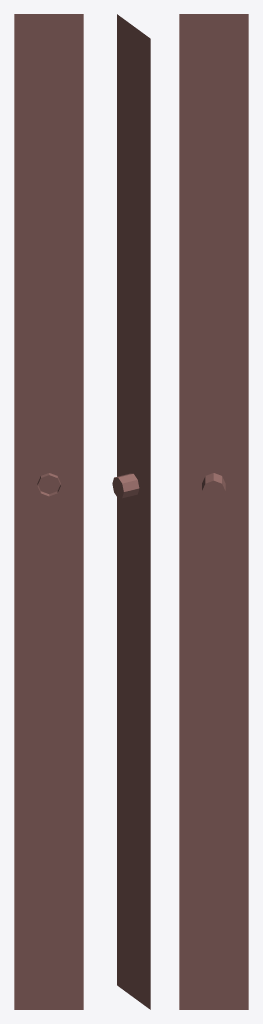
The model's file is servo-holder-long-wall.fbx.
3 renders of one model, left to right at view 1: azimuth 90°, elevation 25°; view 2: azimuth 210°, elevation 25°; view 3: azimuth 270°, elevation 25°, orthographic. The views are drawn at different scales.
Visible parts, largest first — view 1: servo-holder-long-wall; view 2: servo-holder-long-wall; view 3: servo-holder-long-wall.
Boxes of the visible parts, box(x1,y1,x2,y2) form: servo-holder-long-wall: box(14, 14, 83, 1009); servo-holder-long-wall: box(112, 14, 150, 1009); servo-holder-long-wall: box(179, 14, 248, 1009).
Bounding box in the file's own units: 92.33 × 4281 × 269.
